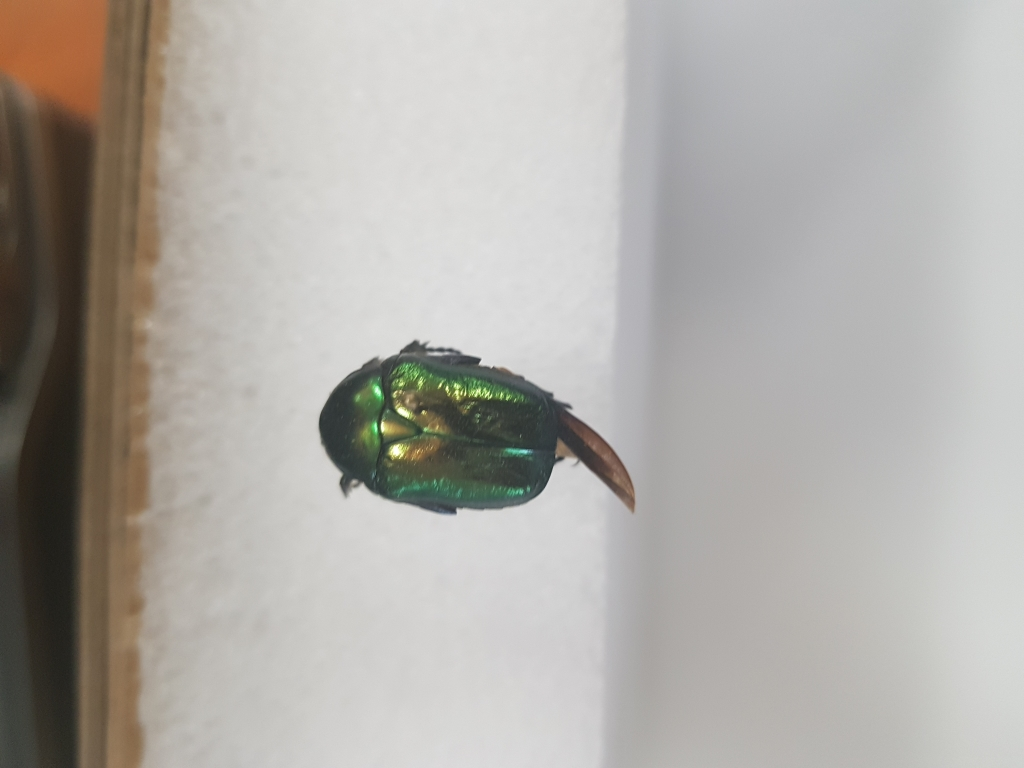Protaetia_angustata_angustata: (315, 321, 647, 539)
